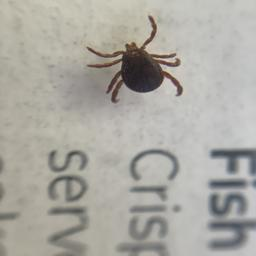Rhipicephalus sanguineus: (85, 14, 184, 104)
